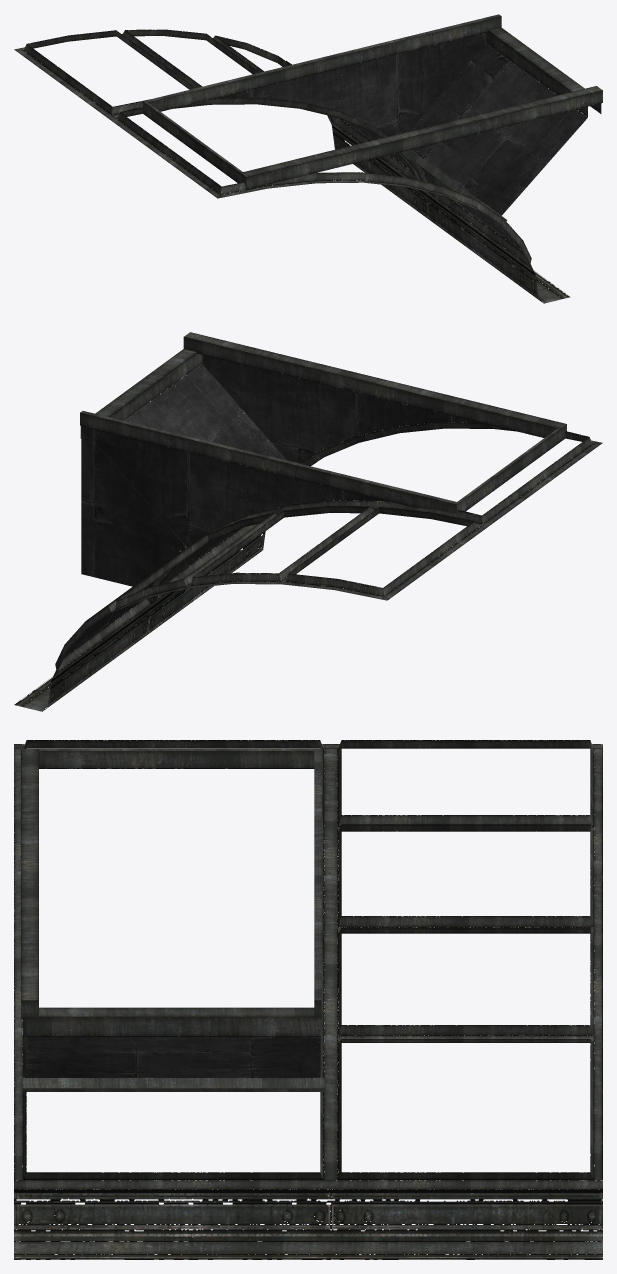
The model's file is tesla_modules1_ceiling_stairs.DAE.
The picture shows the model from 3 angles, top to bottom: view 1: azimuth 30°, elevation 25°; view 2: azimuth 150°, elevation 25°; view 3: azimuth 270°, elevation 25°; orthographic projection. The views are drawn at different scales.
Visible parts, largest first — view 1: polySurface2, polySurface1; view 2: polySurface1, polySurface2; view 3: polySurface2, polySurface1.
Boxes of the visible parts, x1=… form: polySurface2: x1=14, y1=14, x2=602, y2=303; polySurface1: x1=123, y1=32, x2=587, y2=258; polySurface1: x1=64, y1=353, x2=586, y2=657; polySurface2: x1=14, y1=332, x2=602, y2=711; polySurface2: x1=14, y1=740, x2=602, y2=1259; polySurface1: x1=26, y1=1036, x2=320, y2=1077.
Size of the model in its own units: 4.39 by 2.13 by 4.
